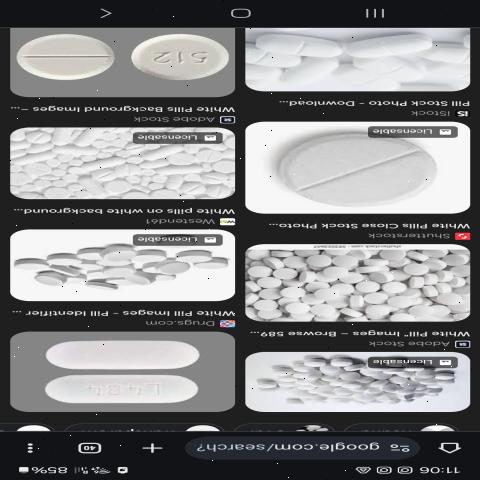Pill: (255, 126, 446, 206), (19, 336, 211, 372), (17, 375, 218, 407), (119, 32, 231, 89), (2, 29, 113, 86), (248, 26, 344, 66), (345, 34, 442, 64), (165, 246, 213, 269), (14, 254, 51, 275), (302, 288, 347, 304), (398, 300, 438, 318), (81, 276, 118, 292)
